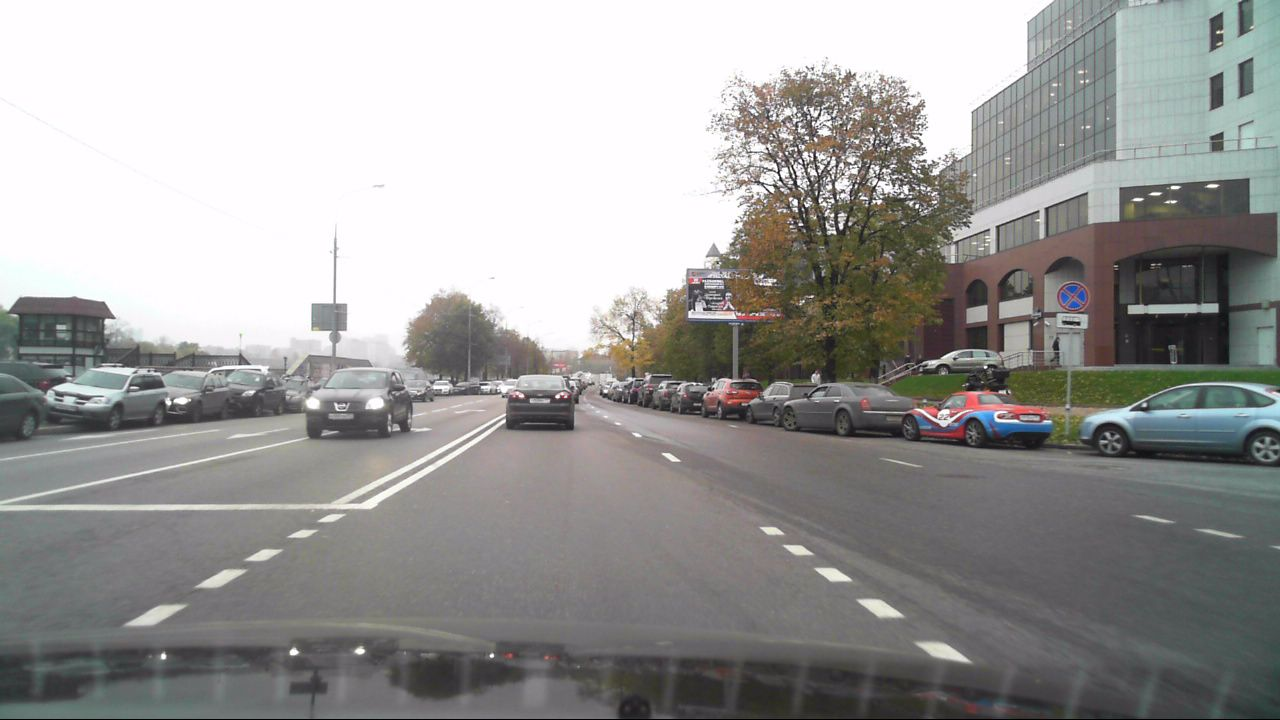No Parking: (1055, 280, 1090, 312)
